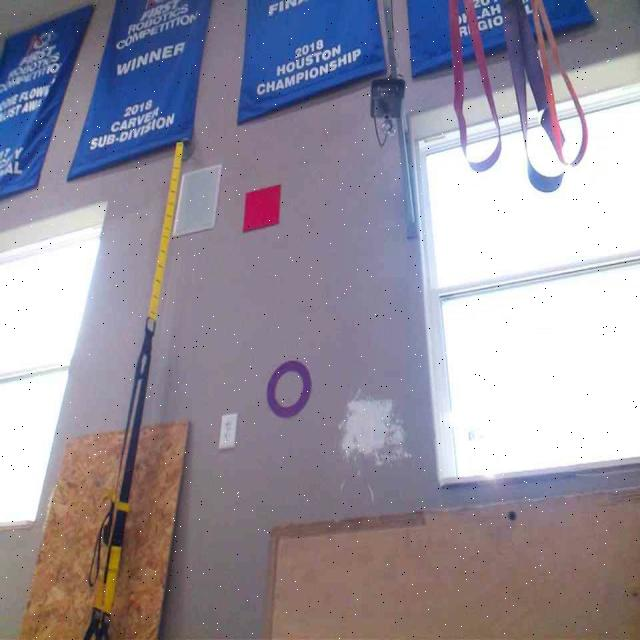ring_purple: (266, 359, 312, 417)
square_red: (240, 183, 282, 232)
